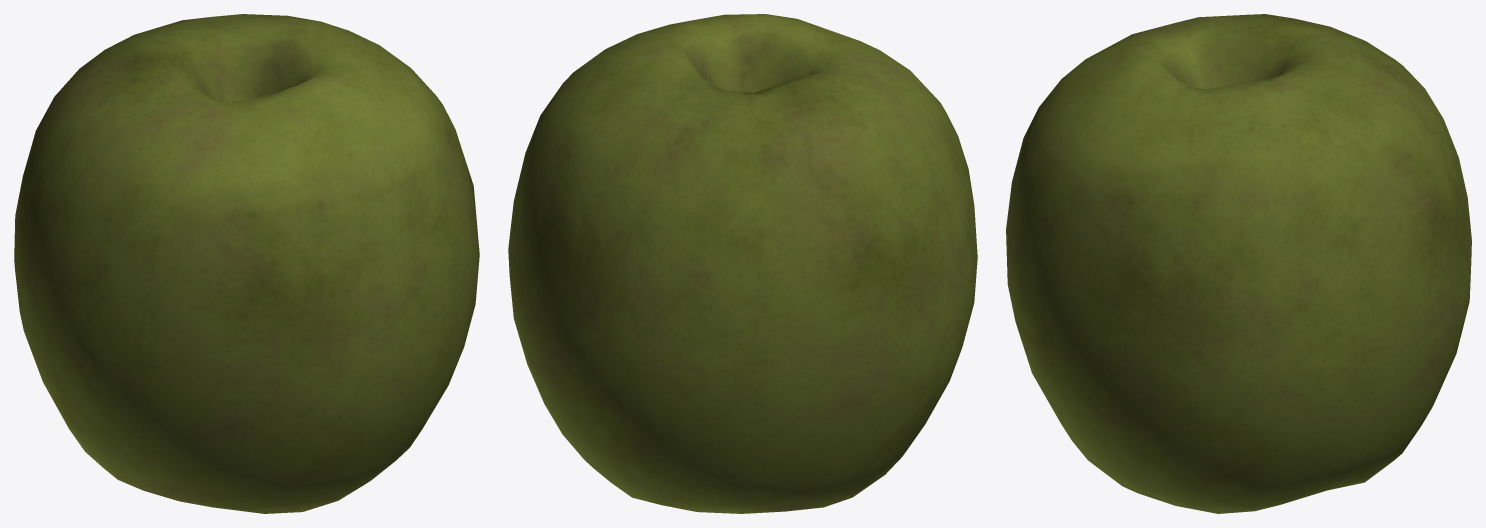
Rendered from 11_apple_green.glb.
3 views of the same model, side by side, from view 1: azimuth 30°, elevation 25°; view 2: azimuth 150°, elevation 25°; view 3: azimuth 270°, elevation 25° (orthographic).
Parts seen in each view (by area): view 1: apple11_lr; view 2: apple11_lr; view 3: apple11_lr.
Part boxes in pixels (bbox=[...]): apple11_lr: bbox=[14, 14, 479, 513]; apple11_lr: bbox=[508, 14, 977, 513]; apple11_lr: bbox=[1006, 14, 1471, 513].
Bounding box in the file's own units: 0.9961 × 0.9804 × 0.9968.
1 material, 1 textured.
